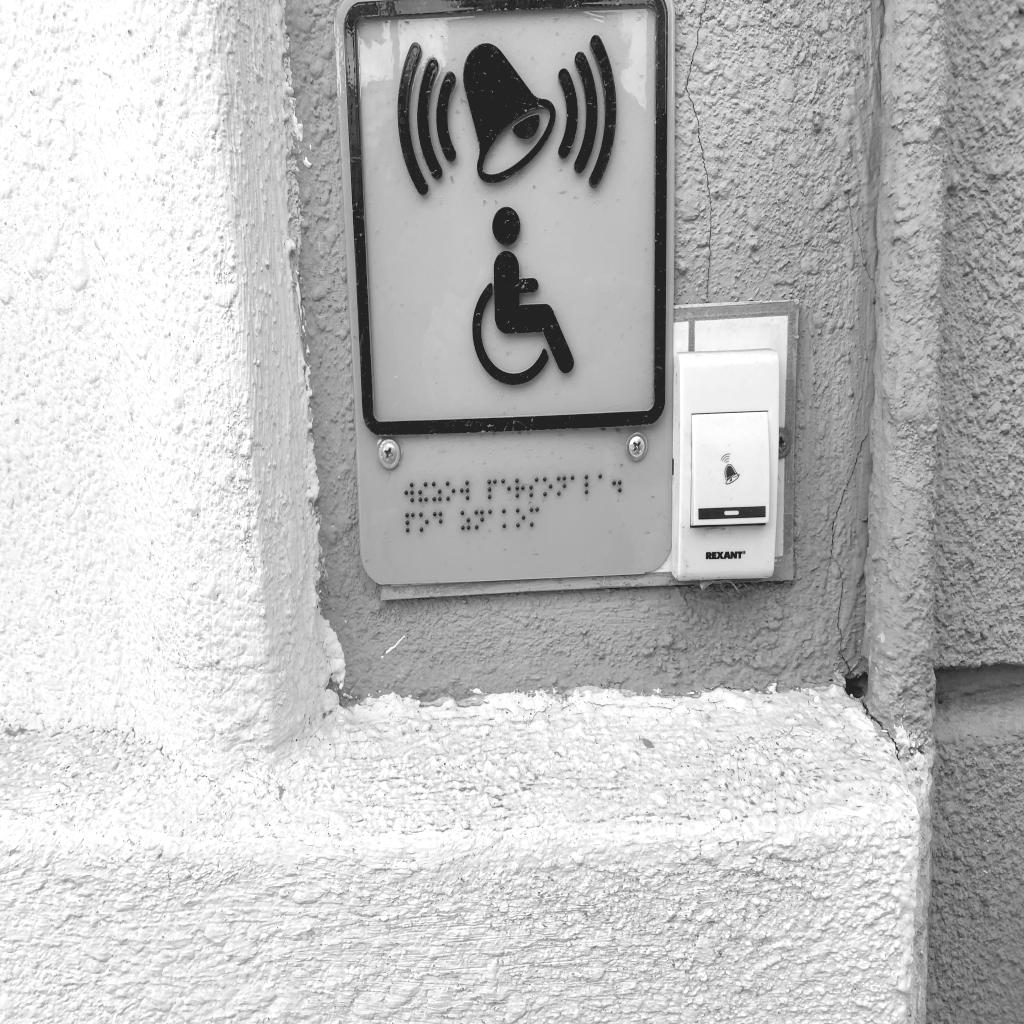_n: (556, 475, 567, 497), (474, 509, 484, 530)
a: (570, 474, 580, 496), (598, 473, 608, 495), (488, 508, 498, 529)
d: (432, 510, 443, 532)
e: (501, 478, 511, 500)
ii: (417, 481, 428, 503)
k: (502, 508, 512, 529)
l: (584, 474, 595, 495)
m: (529, 506, 540, 528)
o: (445, 480, 456, 502), (419, 511, 430, 533), (543, 476, 553, 497), (516, 507, 526, 528)
p: (405, 511, 416, 533), (487, 478, 497, 500)
r: (514, 477, 525, 499)
s: (529, 476, 540, 498)
tochka: (612, 472, 622, 493)
v: (404, 481, 415, 503), (459, 480, 470, 501)
z: (431, 481, 442, 503), (460, 510, 471, 531)
